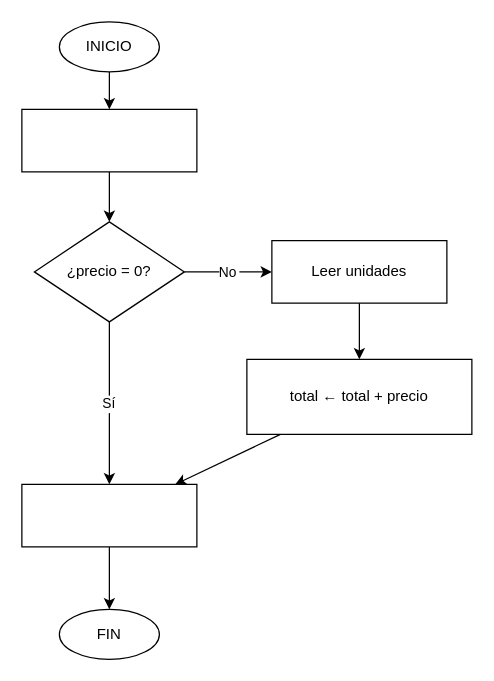
Image size: 494x681. Some labels were removed from this diagram. The centre of each missing label's shape, as x and y in pixels:
"Leer precio" belongs at point (109, 140).
"Mostrar total" belongs at point (109, 515).
